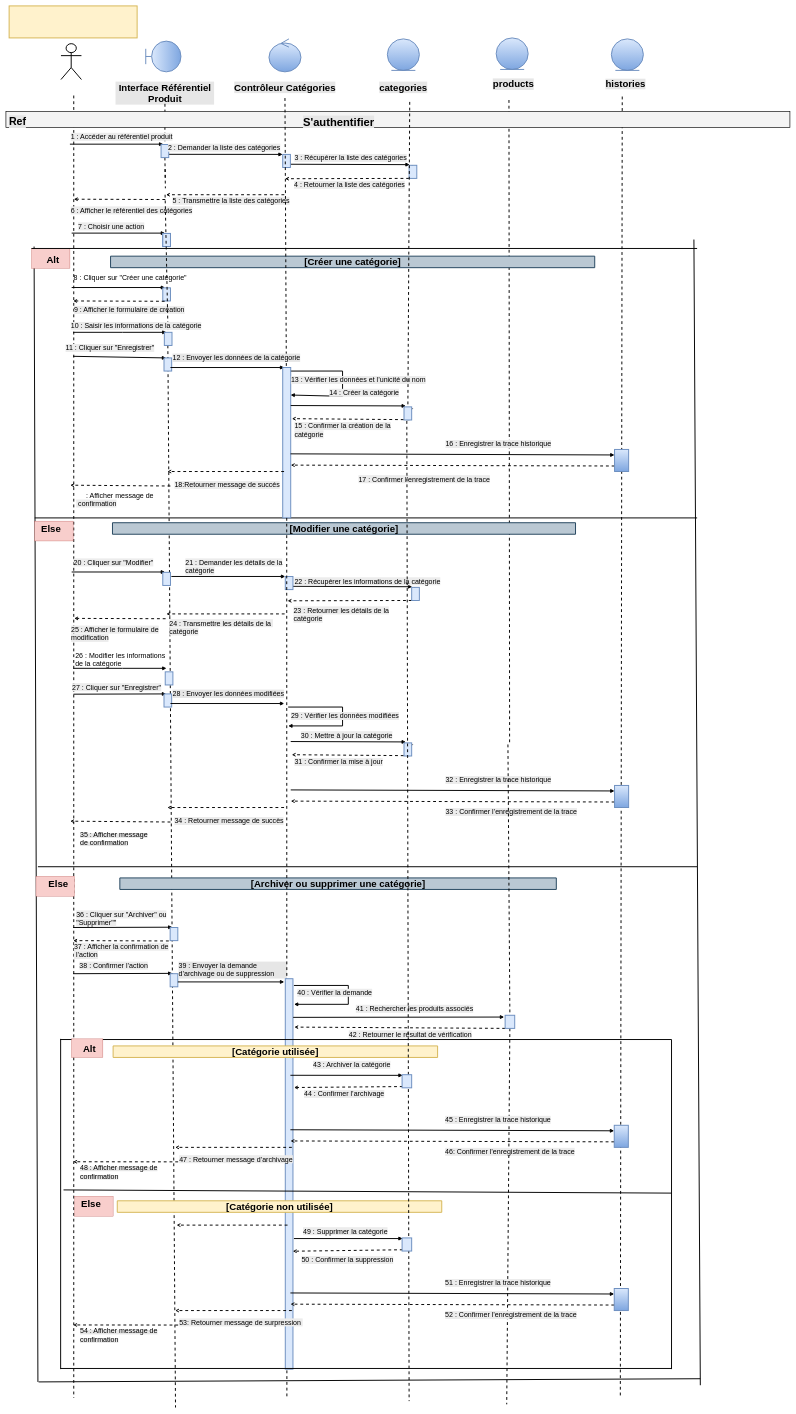
Image size: 796x1414. Some labels were removed from this diagram. Each missing label, with the centre of its shape:
"Responsable" belongs at pixel 71 61.
"sd :Gérer les catégories" belongs at pixel 72 21.
